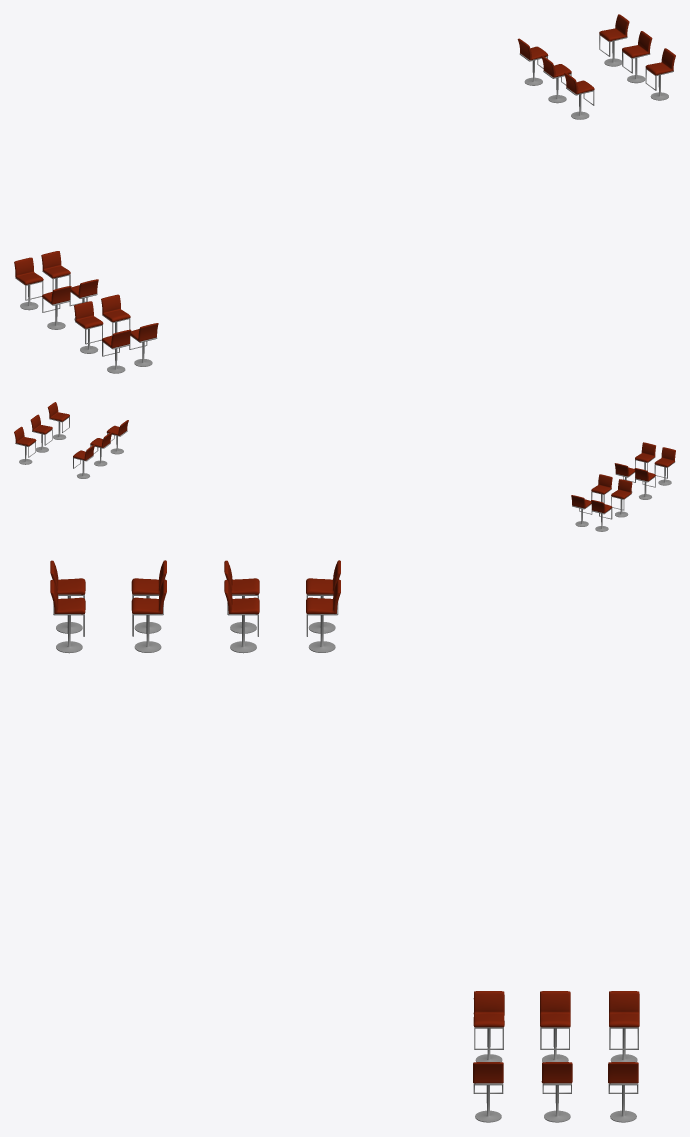
Rendered from Chair_Stool_Low_Group.fbx.
3 renders of one model, top to bottom at view 1: azimuth 30°, elevation 25°; view 2: azimuth 150°, elevation 25°; view 3: azimuth 270°, elevation 25°, orthographic. The views are drawn at different scales.
Visible parts, largest first — view 1: Chair_Stool_Low007, Chair_Stool_Low011, Chair_Stool_Low002, Chair_Stool_Low001, Chair_Stool_Low, Chair_Stool_Low008, Chair_Stool_Low006, Chair_Stool_Low010, Chair_Stool_Low012, Chair_Stool_Low005, Chair_Stool_Low013, Chair_Stool_Low003 (+1 smaller); view 2: Chair_Stool_Low008, Chair_Stool_Low012, Chair_Stool_Low, Chair_Stool_Low001, Chair_Stool_Low002, Chair_Stool_Low011, Chair_Stool_Low007, Chair_Stool_Low009, Chair_Stool_Low003, Chair_Stool_Low006, Chair_Stool_Low013, Chair_Stool_Low005 (+2 smaller); view 3: Chair_Stool_Low005, Chair_Stool_Low003, Chair_Stool_Low004, Chair_Stool_Low, Chair_Stool_Low001, Chair_Stool_Low002, Chair_Stool_Low006, Chair_Stool_Low013, Chair_Stool_Low010, Chair_Stool_Low009, Chair_Stool_Low011, Chair_Stool_Low007 (+2 smaller).
Part boxes in pixels (left/top/right/bottom): Chair_Stool_Low007: left=14, top=257, right=43, bottom=310; Chair_Stool_Low011: left=74, top=301, right=103, bottom=353; Chair_Stool_Low002: left=599, top=14, right=629, bottom=66; Chair_Stool_Low001: left=622, top=31, right=652, bottom=83; Chair_Stool_Low: left=645, top=48, right=675, bottom=100; Chair_Stool_Low008: left=42, top=286, right=71, bottom=329; Chair_Stool_Low006: left=41, top=251, right=70, bottom=290; Chair_Stool_Low010: left=101, top=294, right=130, bottom=334; Chair_Stool_Low012: left=102, top=329, right=131, bottom=373; Chair_Stool_Low005: left=564, top=72, right=594, bottom=119; Chair_Stool_Low013: left=129, top=323, right=158, bottom=366; Chair_Stool_Low003: left=517, top=38, right=548, bottom=85; Chair_Stool_Low008: left=611, top=479, right=632, bottom=517; Chair_Stool_Low012: left=654, top=447, right=675, bottom=485; Chair_Stool_Low: left=47, top=402, right=69, bottom=439; Chair_Stool_Low001: left=30, top=414, right=52, bottom=452; Chair_Stool_Low002: left=14, top=426, right=36, bottom=464; Chair_Stool_Low011: left=634, top=468, right=655, bottom=499; Chair_Stool_Low007: left=591, top=500, right=612, bottom=531; Chair_Stool_Low009: left=591, top=474, right=612, bottom=503; Chair_Stool_Low003: left=73, top=444, right=94, bottom=478; Chair_Stool_Low006: left=571, top=495, right=592, bottom=526; Chair_Stool_Low013: left=635, top=442, right=655, bottom=470; Chair_Stool_Low005: left=106, top=420, right=128, bottom=454; Chair_Stool_Low005: left=473, top=991, right=504, bottom=1062; Chair_Stool_Low003: left=609, top=991, right=639, bottom=1062; Chair_Stool_Low004: left=540, top=991, right=570, bottom=1062; Chair_Stool_Low: left=473, top=1062, right=503, bottom=1122; Chair_Stool_Low001: left=541, top=1062, right=572, bottom=1122; Chair_Stool_Low002: left=608, top=1062, right=638, bottom=1122; Chair_Stool_Low006: left=306, top=579, right=340, bottom=652; Chair_Stool_Low013: left=50, top=580, right=85, bottom=653; Chair_Stool_Low010: left=131, top=579, right=166, bottom=652; Chair_Stool_Low009: left=224, top=580, right=259, bottom=653; Chair_Stool_Low011: left=131, top=560, right=166, bottom=633; Chair_Stool_Low007: left=306, top=560, right=340, bottom=633.
Bounding box in the file's own units: 1811 × 104 × 896.
